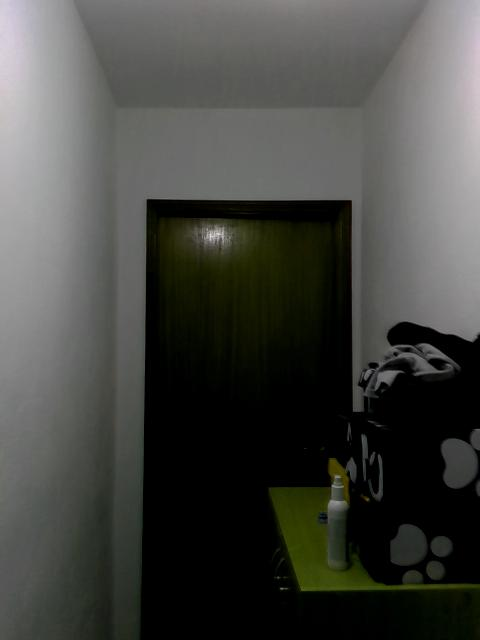closed_door: (140, 198, 350, 638)
